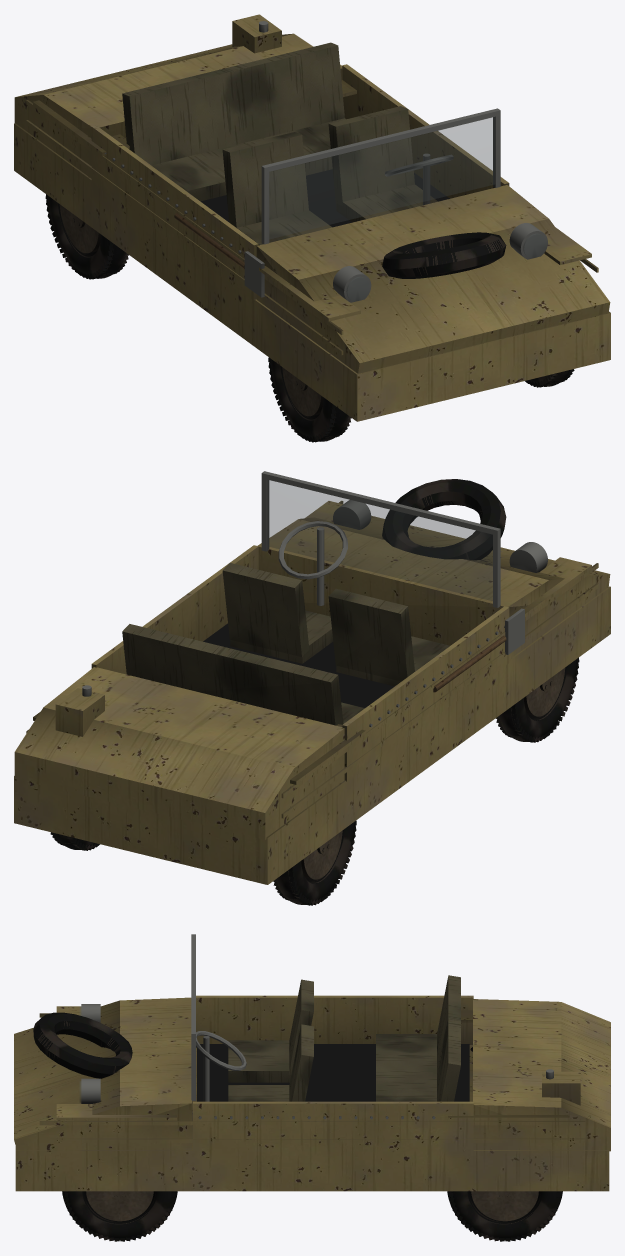
File: kubelwagen.glb
3 renders of one model, top to bottom at view 1: azimuth 30°, elevation 25°; view 2: azimuth 150°, elevation 25°; view 3: azimuth 270°, elevation 25°, orthographic. The views are drawn at different scales.
Parts seen in each view (by area): view 1: Body, Axle_Front, Axle_Rear; view 2: Body, Axle_Rear, Axle_Front; view 3: Body, Axle_Rear, Axle_Front.
Part boxes in pixels (x1,y1,x2,y2): Body: (14, 14, 610, 421); Axle_Front: (268, 357, 574, 442); Axle_Rear: (45, 194, 128, 279); Body: (14, 471, 610, 884); Axle_Rear: (50, 820, 356, 905); Axle_Front: (495, 657, 579, 742); Body: (14, 934, 610, 1191); Axle_Rear: (447, 1047, 562, 1241); Axle_Front: (62, 1191, 177, 1241).
Bounding box in the file's own units: 1.64 × 1.43 × 3.72.
Materials: 8 (5 with a texture image).
